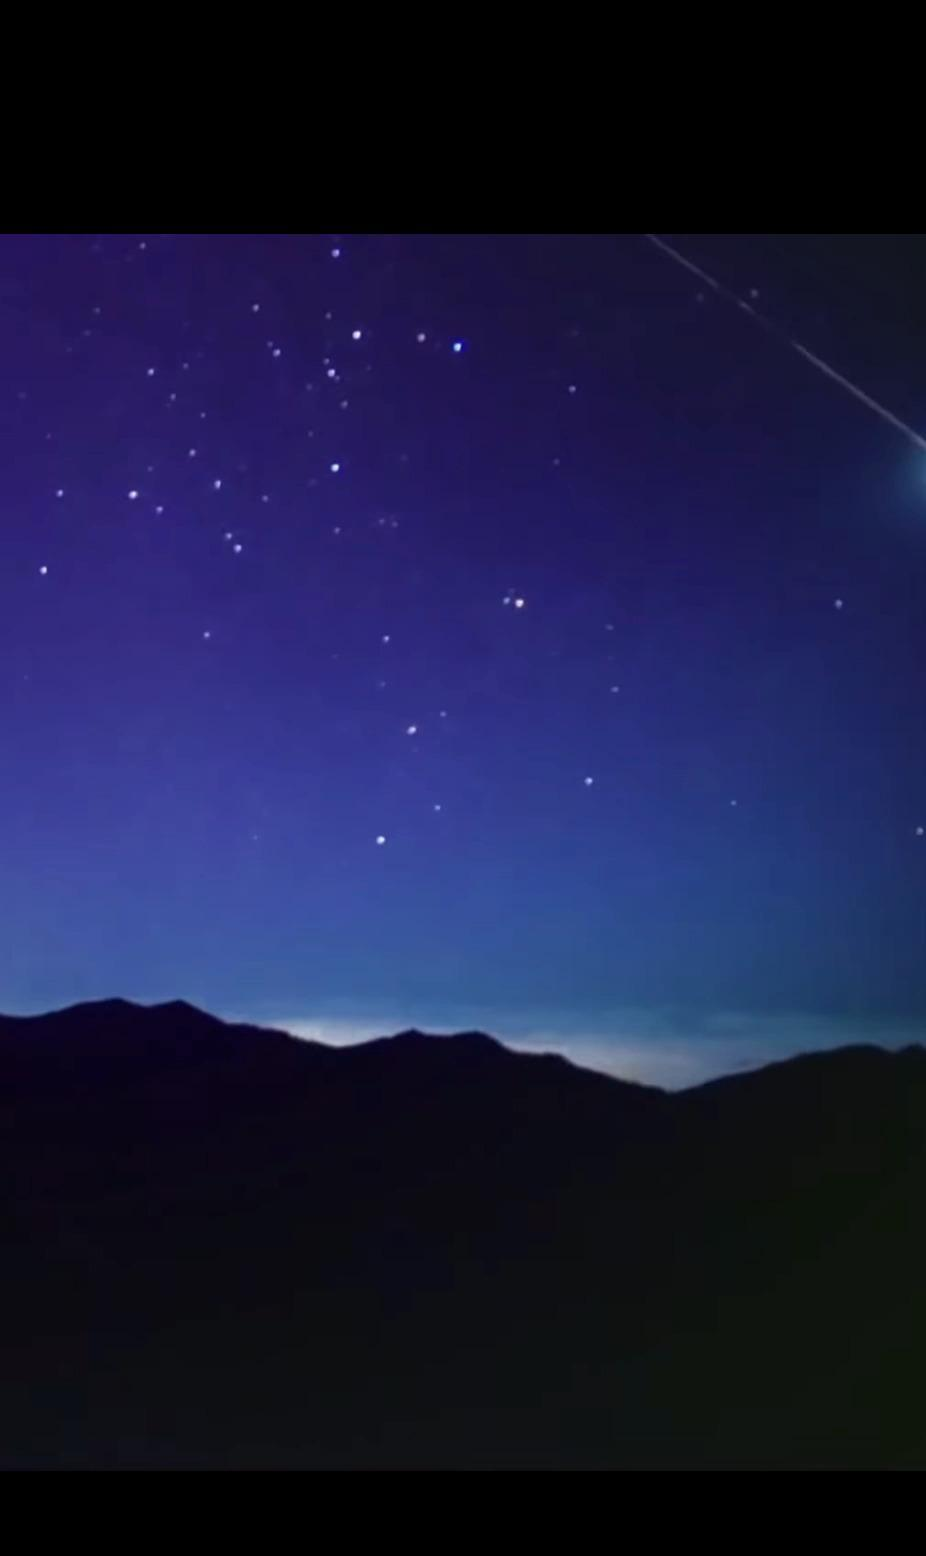meteorite: (523, 213, 925, 476)
